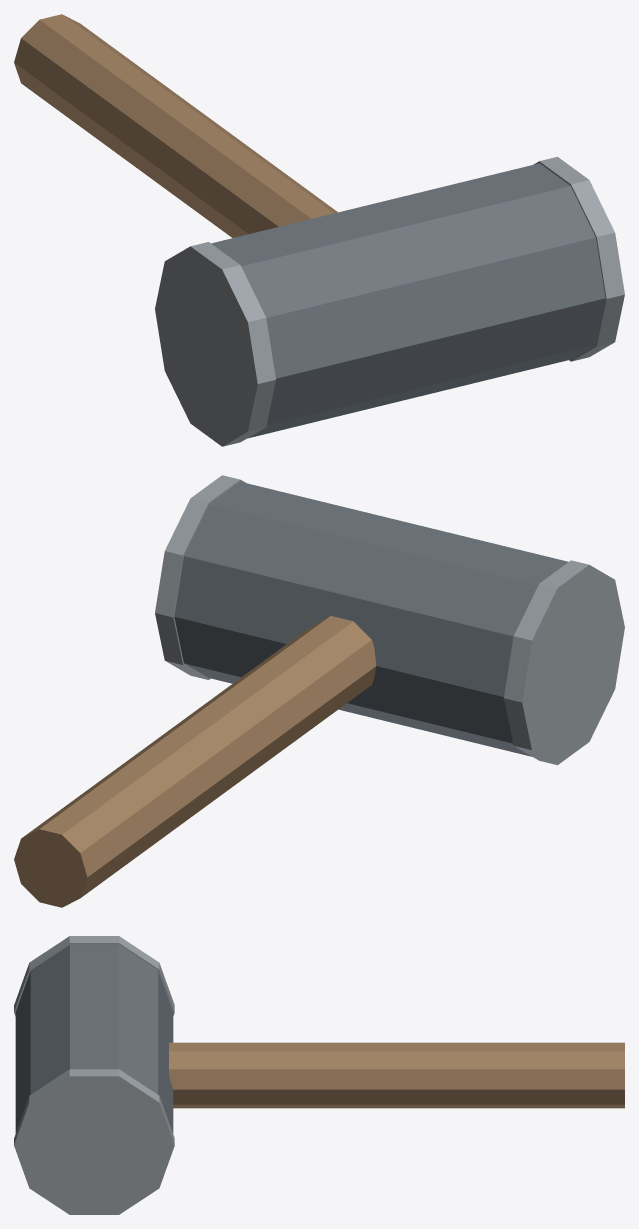
Rendered from sledgehammer.glb.
3 views of the same model, one above another, from view 1: azimuth 30°, elevation 25°; view 2: azimuth 150°, elevation 25°; view 3: azimuth 270°, elevation 25° (orthographic). The views are drawn at different scales.
Parts seen in each view (by area): view 1: 01_hammer_head, 00_handle, 02_face_left, 03_face_right; view 2: 01_hammer_head, 00_handle, 02_face_left, 03_face_right; view 3: 00_handle, 01_hammer_head, 03_face_right, 02_face_left.
Part boxes in pixels (x1,y1,x2,y2): 01_hammer_head: (211, 163, 605, 438); 00_handle: (14, 14, 337, 237); 02_face_left: (155, 242, 275, 446); 03_face_right: (533, 156, 624, 361); 01_hammer_head: (174, 481, 568, 756); 00_handle: (14, 616, 376, 907); 02_face_left: (504, 560, 624, 765); 03_face_right: (155, 475, 245, 679); 00_handle: (169, 1042, 624, 1108); 01_hammer_head: (15, 944, 173, 1133); 03_face_right: (14, 1069, 174, 1214); 02_face_left: (14, 936, 174, 1016).
Size of the model in its own units: 0.4 by 0.1845 by 0.737.
